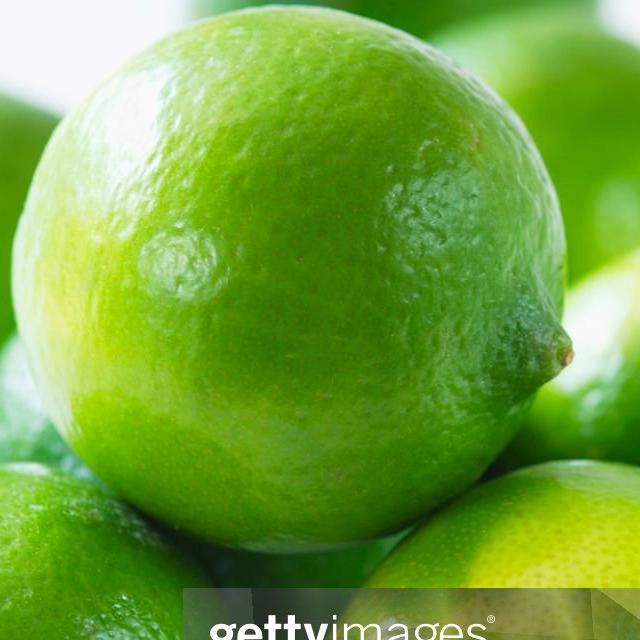lime: (8, 5, 572, 562)
